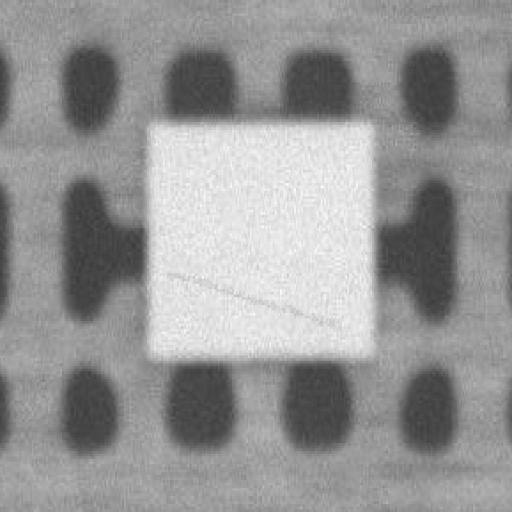DIE_CRACK: (249, 181, 507, 216)
